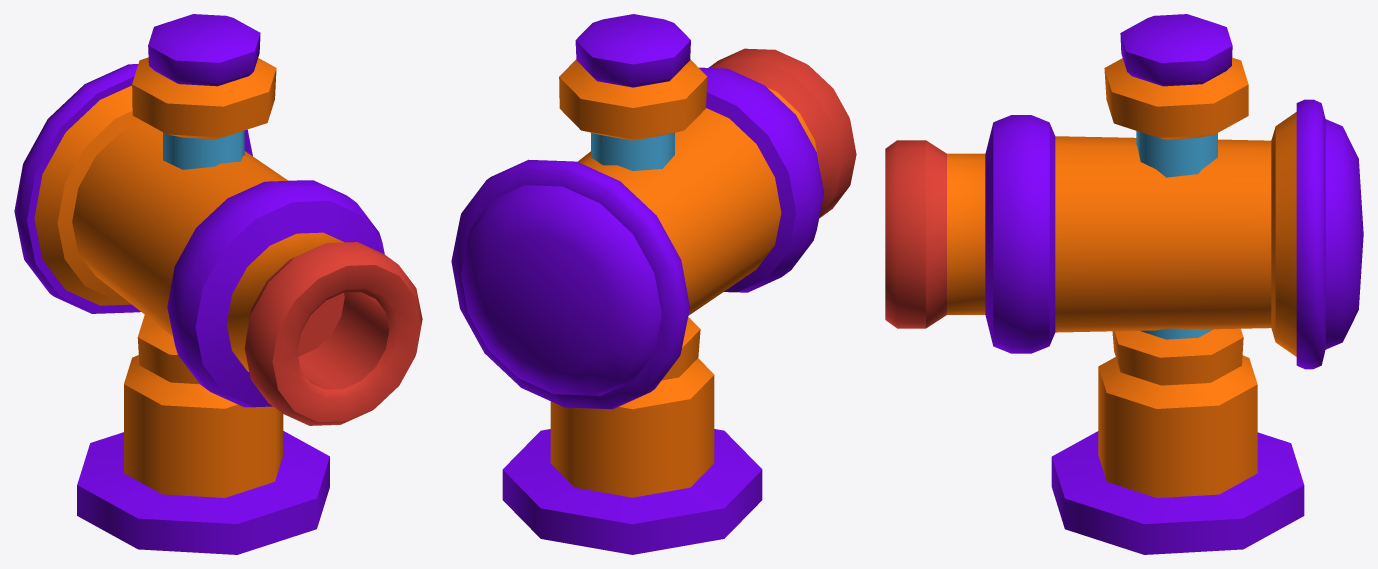
The model's file is Obstacle_Flamethrower_01.fbx.
The picture shows the model from 3 angles, left to right: view 1: azimuth 30°, elevation 25°; view 2: azimuth 150°, elevation 25°; view 3: azimuth 270°, elevation 25°; orthographic projection.
Parts seen in each view (by area): view 1: Obstacle_Flamethrower_01; view 2: Obstacle_Flamethrower_01; view 3: Obstacle_Flamethrower_01.
Part boxes in pixels (left/top/right/bottom): Obstacle_Flamethrower_01: left=14, top=14, right=422, bottom=554; Obstacle_Flamethrower_01: left=451, top=14, right=856, bottom=554; Obstacle_Flamethrower_01: left=885, top=14, right=1363, bottom=554.
Bounding box in the file's own units: 59.56 × 114 × 106.
